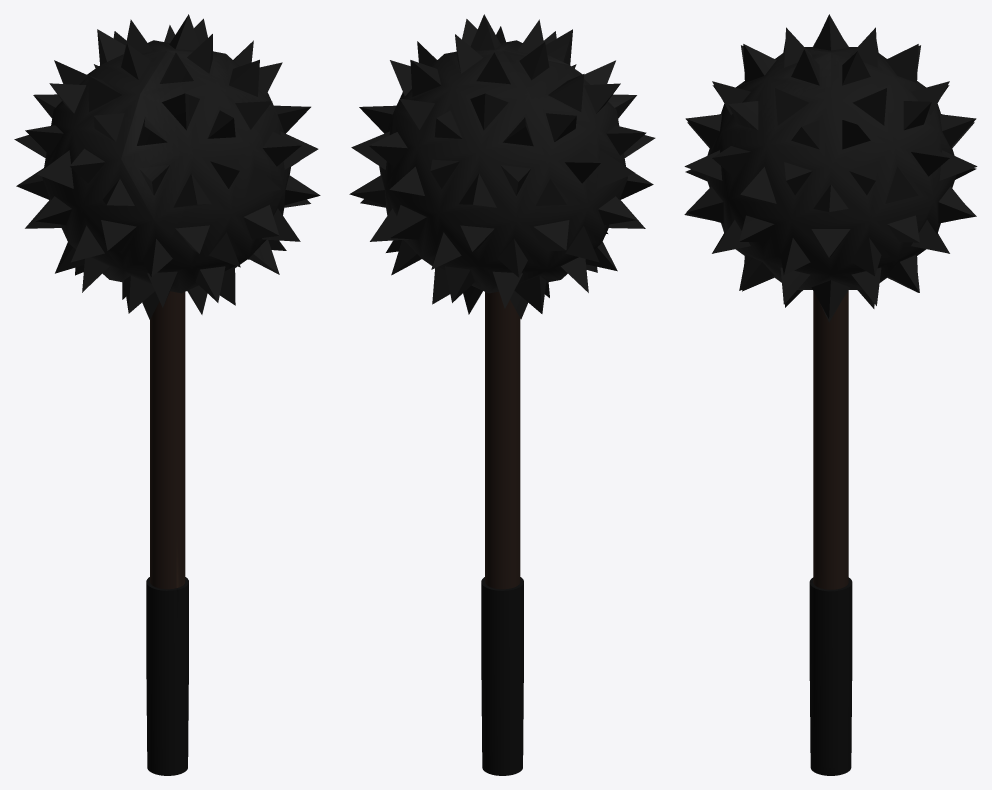
File: mace.fbx
3 renders of one model, left to right at view 1: azimuth 30°, elevation 25°; view 2: azimuth 150°, elevation 25°; view 3: azimuth 270°, elevation 25°, orthographic.
Parts seen in each view (by area): view 1: Icosphere; view 2: Icosphere; view 3: Icosphere.
Boxes of the visible parts, box(x1,y1,x2,y2) form: Icosphere: box(14, 14, 320, 775); Icosphere: box(349, 14, 655, 775); Icosphere: box(684, 14, 977, 775).
Bounding box in the file's own units: 33.03 × 86.92 × 31.53.
1 material, 1 textured.
